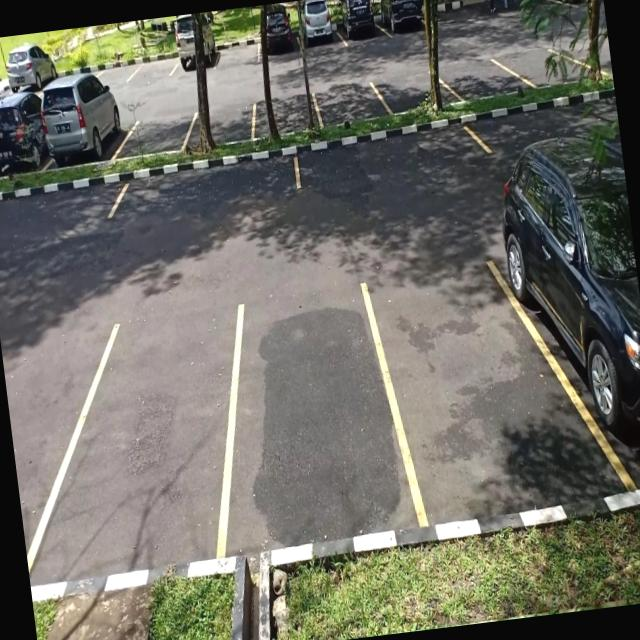car: (519, 179, 640, 501), (39, 83, 128, 170), (0, 94, 48, 180), (170, 19, 218, 76), (293, 0, 342, 53), (255, 10, 302, 60), (333, 0, 382, 46)
free: (38, 311, 246, 580), (215, 286, 408, 560), (375, 264, 565, 533), (292, 118, 488, 190), (110, 151, 300, 220), (442, 52, 517, 102), (120, 108, 194, 158), (378, 66, 452, 114), (187, 101, 256, 151), (310, 78, 382, 125), (251, 90, 323, 136), (214, 32, 264, 68), (128, 46, 178, 82)
